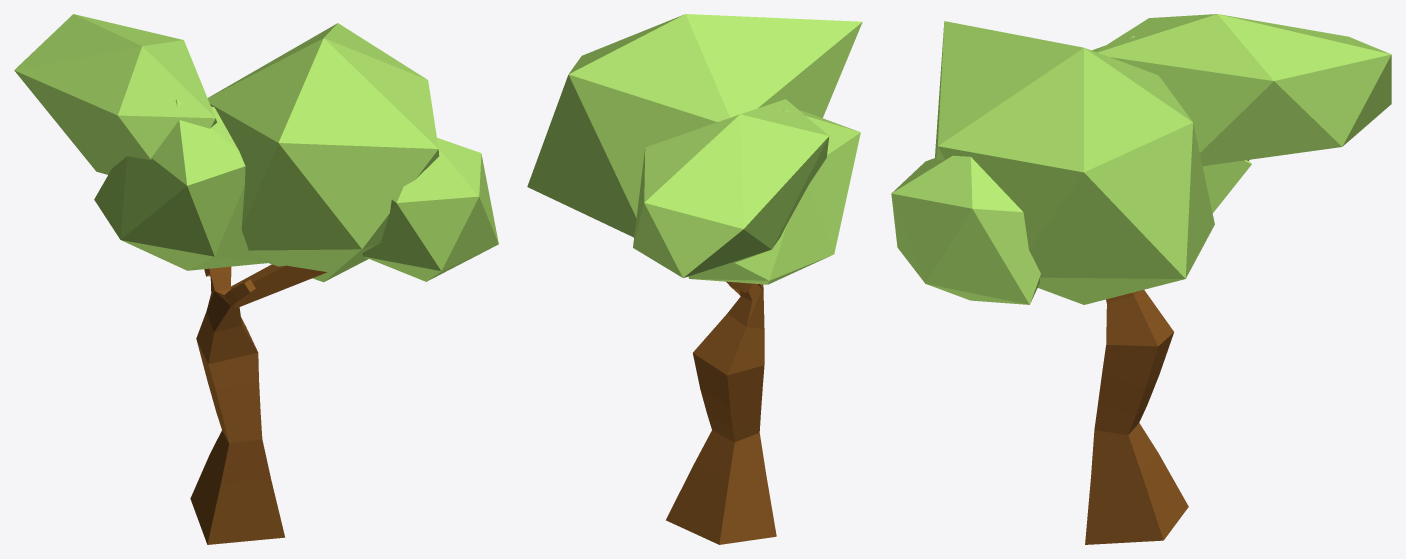
The model's file is myfirstTree.glb.
3 views of the same model, side by side, from view 1: azimuth 30°, elevation 25°; view 2: azimuth 150°, elevation 25°; view 3: azimuth 270°, elevation 25° (orthographic). The views are drawn at different scales.
Parts seen in each view (by area): view 1: Icosphere, Icosphere.001, Trunk, Icosphere.002, Icosphere.003; view 2: Icosphere, Icosphere.001, Trunk, Icosphere.002; view 3: Icosphere, Icosphere.001, Trunk, Icosphere.003, Icosphere.002.
Boxes of the visible parts, box(x1,y1,x2,y2) form: Icosphere: box(207, 23, 439, 282); Icosphere.001: box(14, 14, 217, 174); Trunk: box(190, 264, 326, 544); Icosphere.002: box(94, 99, 273, 270); Icosphere.003: box(362, 138, 498, 281); Icosphere: box(527, 14, 862, 237); Icosphere.001: box(633, 99, 829, 277); Trunk: box(666, 281, 776, 544); Icosphere.002: box(688, 109, 860, 284); Icosphere: box(935, 21, 1214, 304); Icosphere.001: box(1096, 14, 1391, 165); Trunk: box(1085, 159, 1249, 544); Icosphere.003: box(891, 155, 1040, 304); Icosphere.002: box(1092, 35, 1251, 213).
Bounding box in the file's own units: 1.67 × 2.65 × 2.33.
